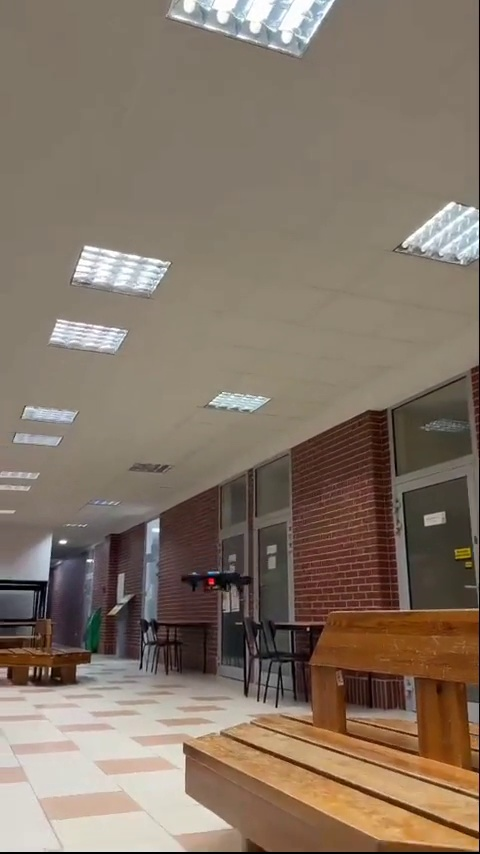drone: (182, 566, 253, 599)
